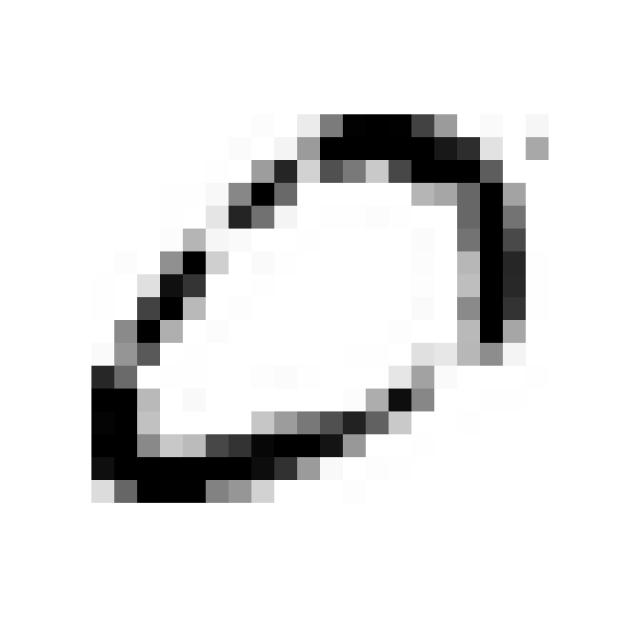5 -five-: (75, 96, 562, 518)
